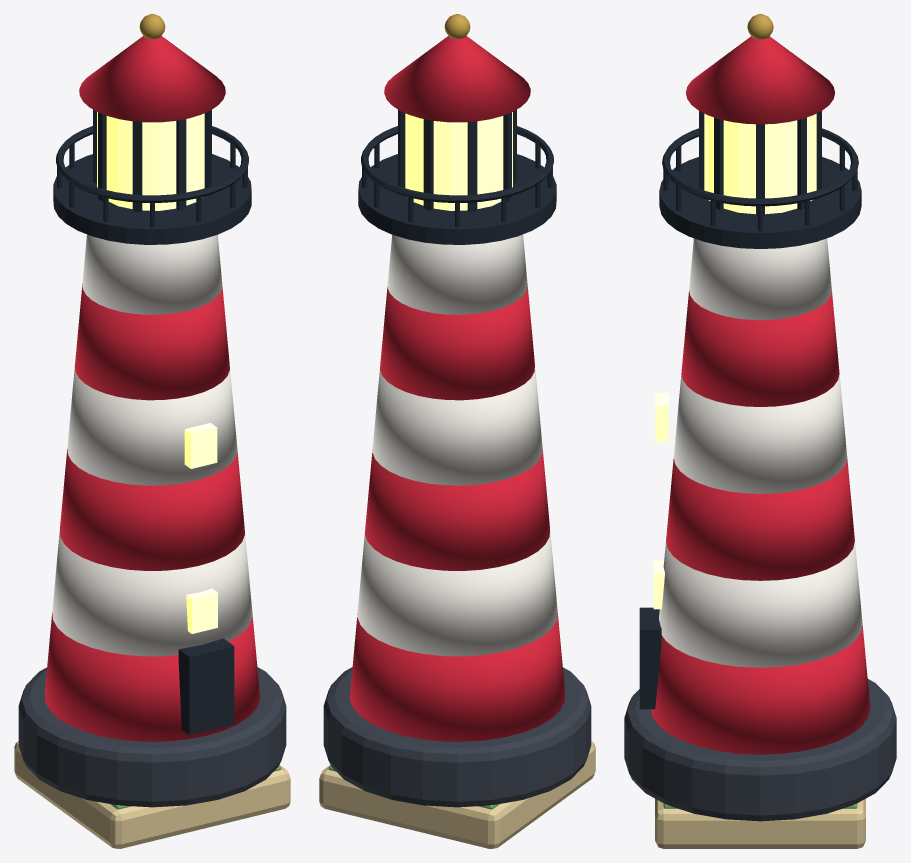
File: faro.glb
The picture shows the model from 3 angles, left to right: view 1: azimuth 30°, elevation 25°; view 2: azimuth 150°, elevation 25°; view 3: azimuth 270°, elevation 25°; orthographic projection.
Visible parts, largest first — view 1: Faro, Casilla; view 2: Faro, Casilla; view 3: Faro, Casilla.
Part boxes in pixels (box(x1,y1,x2,y2)): Faro: box(18, 14, 286, 807); Casilla: box(14, 741, 290, 848); Faro: box(323, 14, 591, 807); Casilla: box(319, 741, 595, 848); Faro: box(624, 14, 896, 821); Casilla: box(655, 798, 865, 848).
Size of the model in its own units: 1.24 by 3.98 by 1.24.
